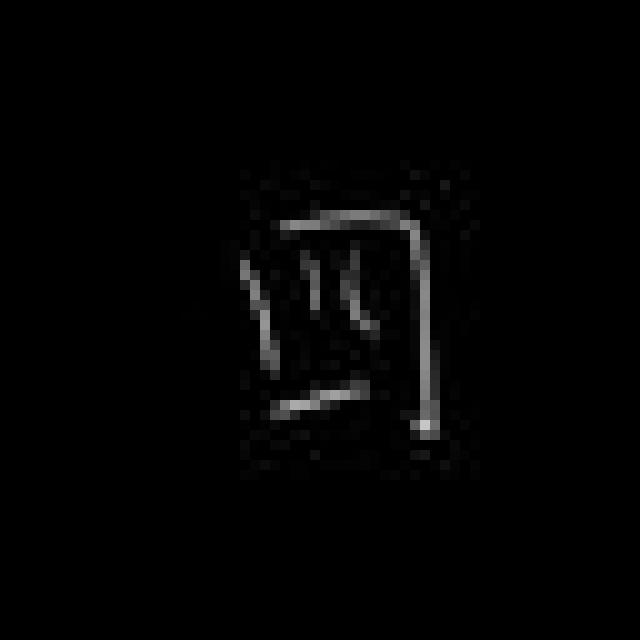4 -four-: (218, 198, 452, 456)
